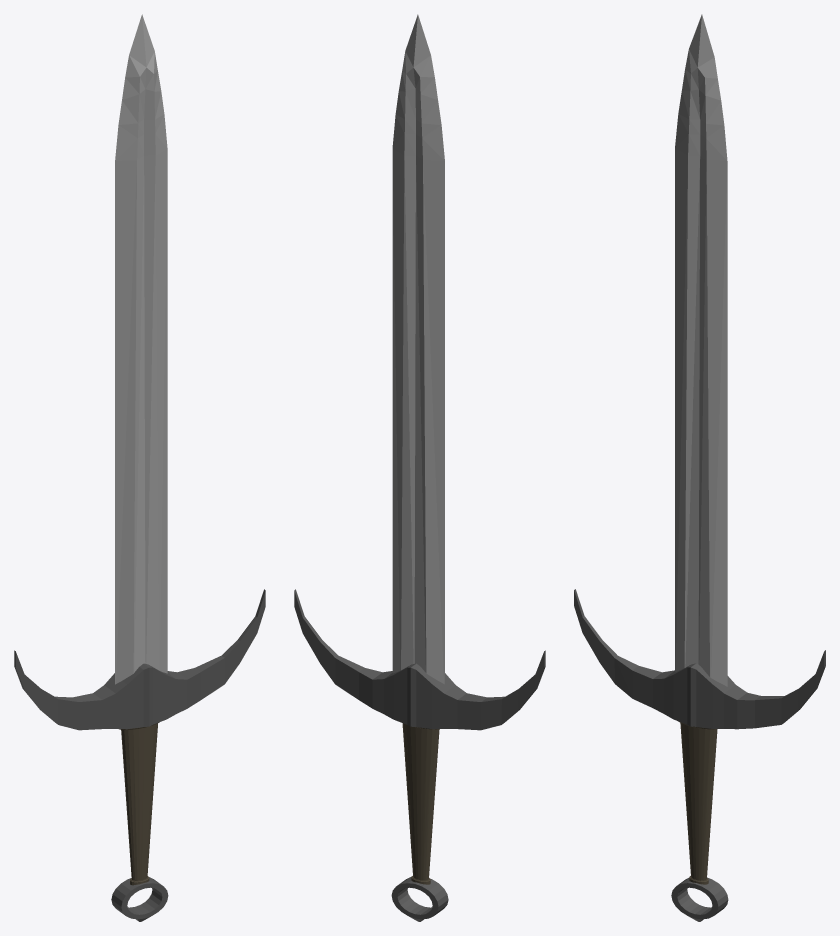
File: Hero_Weapon_Sword.fbx
The picture shows the model from 3 angles, left to right: view 1: azimuth 30°, elevation 25°; view 2: azimuth 150°, elevation 25°; view 3: azimuth 330°, elevation 25°; orthographic projection.
Visible parts, largest first — view 1: polySurface3; view 2: polySurface3; view 3: polySurface3.
Boxes of the visible parts, left/top/right/bottom form: polySurface3: left=14, top=14, right=265, bottom=921; polySurface3: left=294, top=14, right=545, bottom=921; polySurface3: left=574, top=14, right=825, bottom=921.
Bounding box in the file's own units: 18.77 × 65.05 × 2.39.
